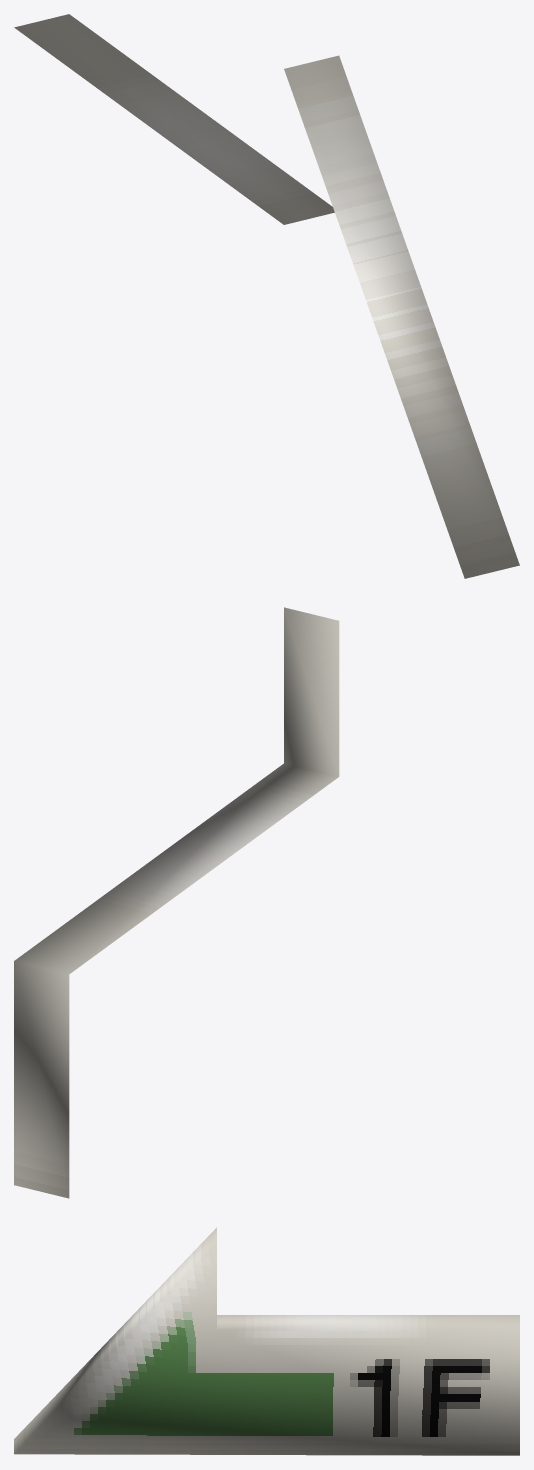
The model's file is a_SCsign01.glb.
The picture shows the model from 3 angles, top to bottom: view 1: azimuth 30°, elevation 25°; view 2: azimuth 150°, elevation 25°; view 3: azimuth 270°, elevation 25°; orthographic projection. The views are drawn at different scales.
Visible parts, largest first — view 1: a_SCsign01; view 2: a_SCsign01; view 3: a_SCsign01.
Boxes of the visible parts, box(x1,y1,x2,y2) form: a_SCsign01: box(14, 14, 519, 578); a_SCsign01: box(14, 607, 339, 1198); a_SCsign01: box(14, 1227, 519, 1455).
Bounding box in the file's own units: 0.0424 × 0.279 × 0.5994.
Materials: 1 (1 with a texture image).
